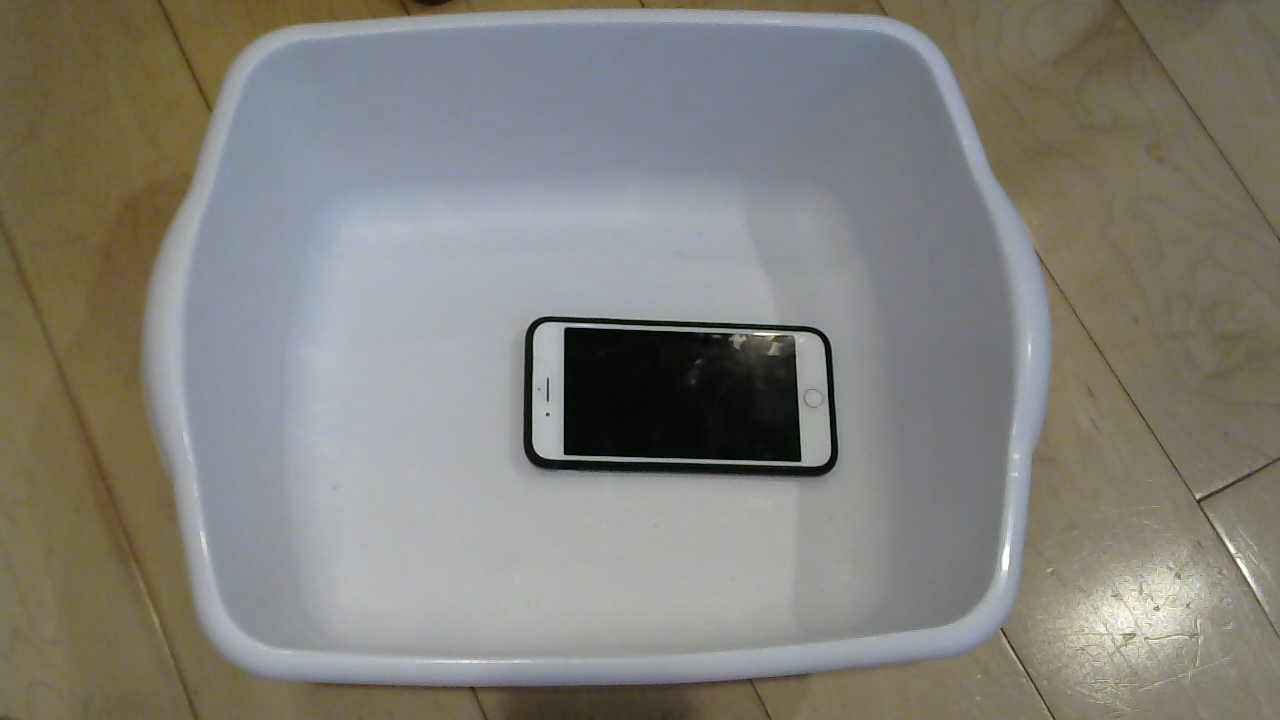phone: (521, 315, 853, 489)
